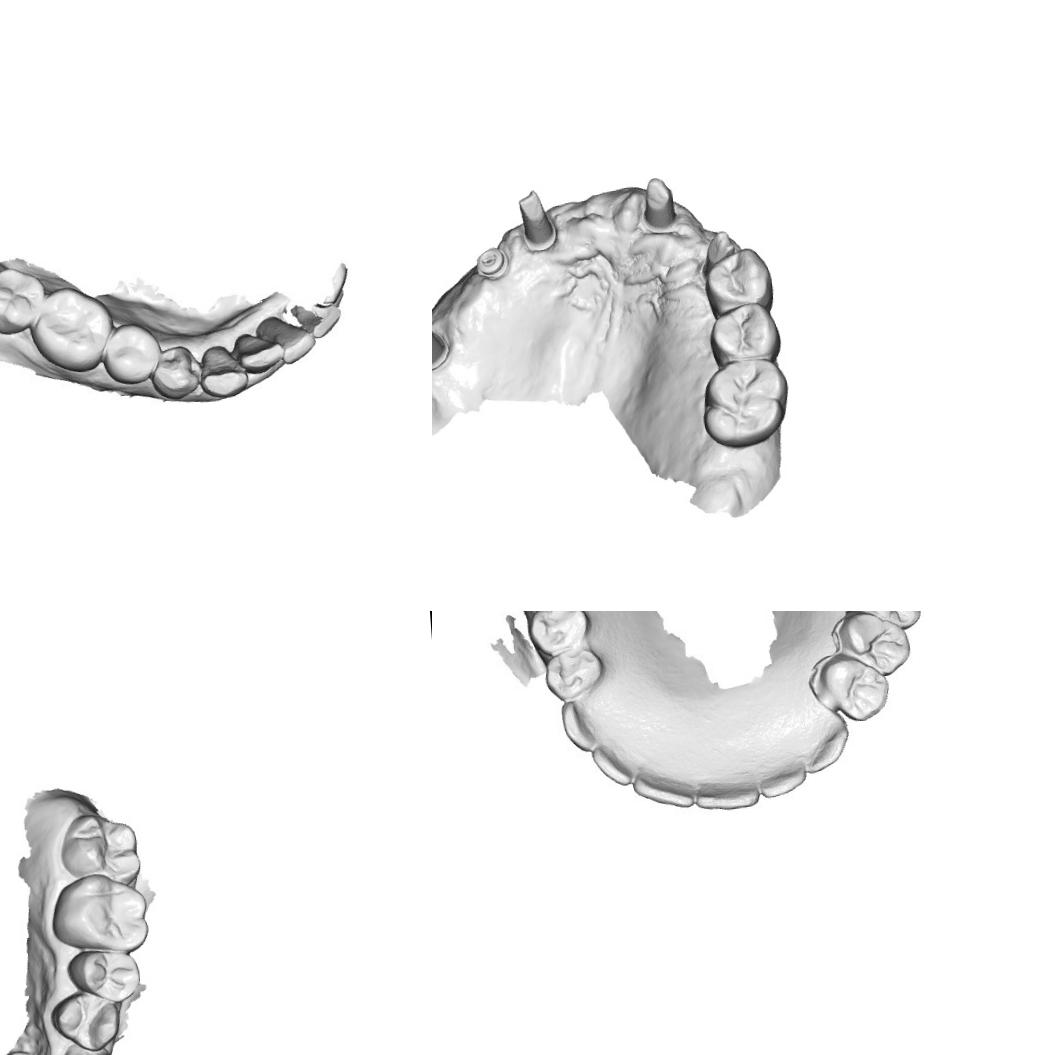abutment: (516, 187, 558, 254), (638, 174, 679, 236), (700, 226, 737, 274), (432, 306, 451, 374)
canine: (558, 696, 608, 753), (197, 344, 248, 399), (802, 722, 848, 772), (58, 1039, 119, 1055)
implant_minus: (473, 244, 510, 283)
incisor: (636, 750, 697, 816), (256, 314, 318, 364), (696, 772, 762, 810), (595, 740, 645, 785), (235, 331, 283, 376), (756, 756, 807, 798)
molar: (45, 870, 152, 960), (696, 354, 792, 451), (57, 807, 150, 888), (30, 285, 112, 375), (0, 263, 42, 337), (852, 611, 925, 627)
premolar: (700, 245, 774, 315), (49, 986, 124, 1055), (706, 299, 782, 366), (838, 611, 913, 677), (64, 945, 142, 1007), (822, 654, 890, 717), (102, 319, 164, 386), (148, 346, 202, 400), (548, 648, 602, 698), (529, 611, 588, 650)
